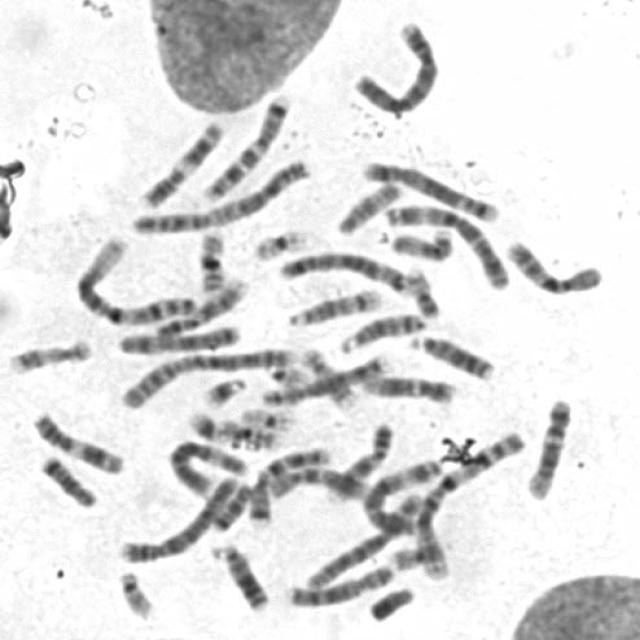A1: (407, 425, 530, 582), (70, 232, 199, 326)
A2: (124, 153, 314, 237), (113, 343, 302, 411)
A3: (380, 197, 514, 292), (359, 455, 443, 536)
B4: (111, 467, 242, 565), (349, 14, 443, 116)
B5: (358, 154, 504, 224), (274, 245, 414, 296)
C10: (498, 233, 608, 297), (262, 460, 373, 502)
C11: (133, 115, 228, 211), (27, 406, 128, 476)
C12: (521, 391, 575, 501), (354, 367, 458, 406)
C6: (299, 486, 425, 592), (162, 432, 251, 498)
C7: (194, 86, 296, 203), (245, 442, 333, 526)
C8: (260, 349, 392, 408), (281, 556, 398, 608)
C9: (150, 272, 252, 339), (324, 416, 396, 504)
D13: (406, 328, 498, 382), (206, 538, 272, 612)
D14: (284, 282, 386, 328), (334, 307, 429, 354)
D15: (332, 176, 406, 237), (386, 223, 457, 262)
E16: (190, 224, 232, 294), (388, 538, 448, 572)
E17: (295, 342, 359, 412), (1, 332, 95, 377)
E18: (35, 449, 100, 510), (206, 476, 255, 532)
F19: (249, 222, 312, 262), (236, 401, 296, 432)
F20: (402, 261, 443, 320), (388, 538, 448, 572)
G21: (197, 370, 250, 410), (182, 406, 225, 444)
G22: (111, 564, 158, 621), (263, 360, 311, 388)
X: (113, 319, 242, 356)
Y: (364, 581, 419, 623)
